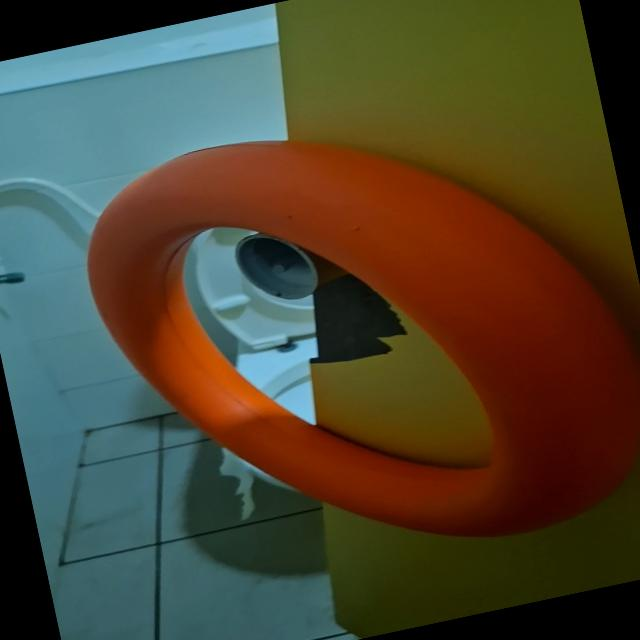note: (64, 66, 640, 611)
